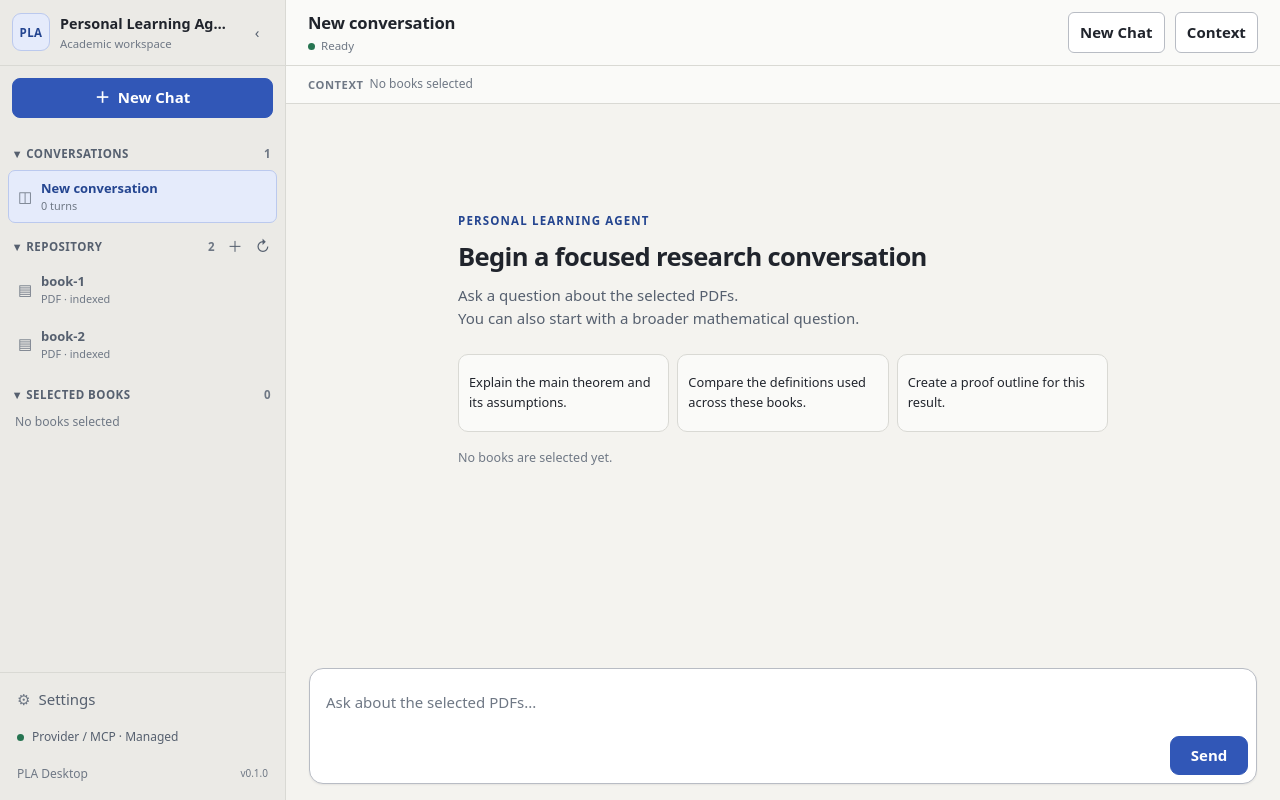
it: Repository and conversation behavior › shows a non-blocking PDF open error
Double-click the button "▤ book-1 PDF · indexed" at (63, 281), box 8,263 -> 277,316
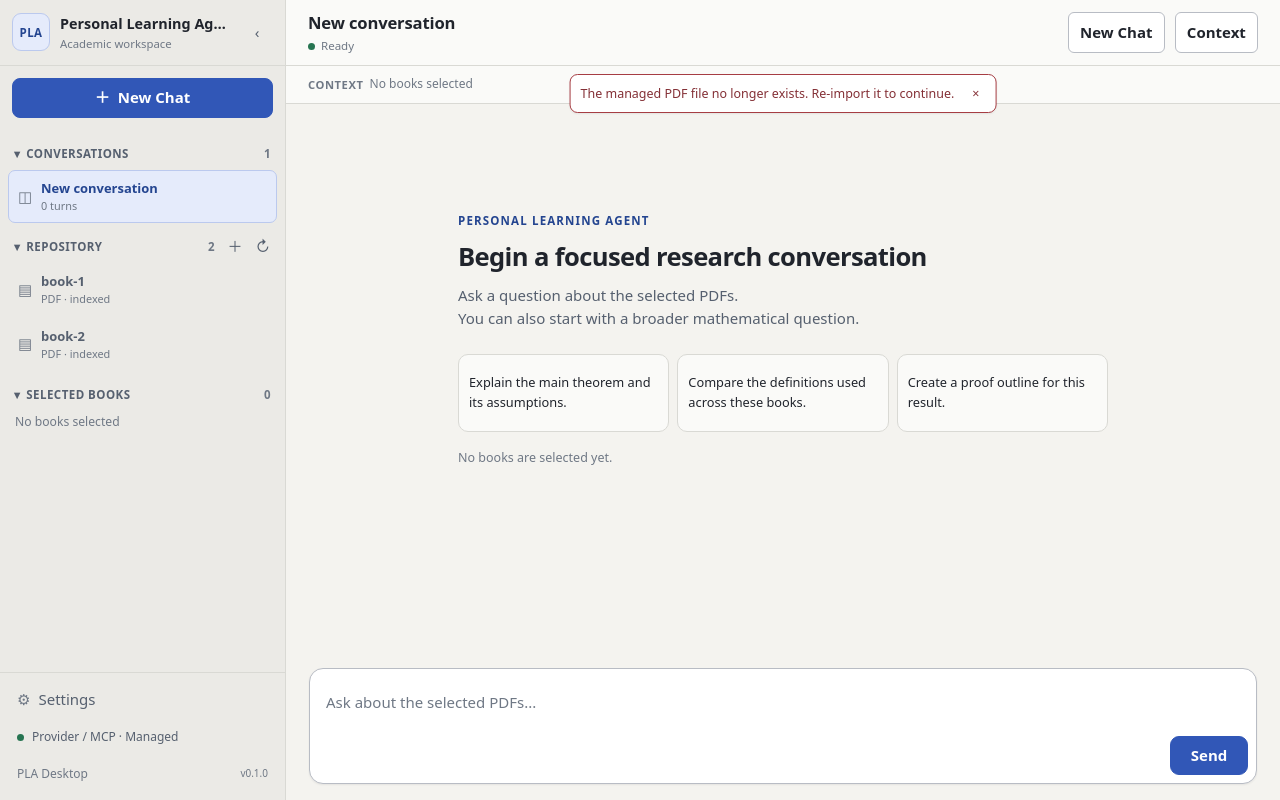
Expected: the button "＋ New Chat" is enabled, 12,78 -> 273,118
Expected: the text "The managed PDF file no longer exists. Re-import it to continue. ×" is shown, 570,74 -> 996,113
